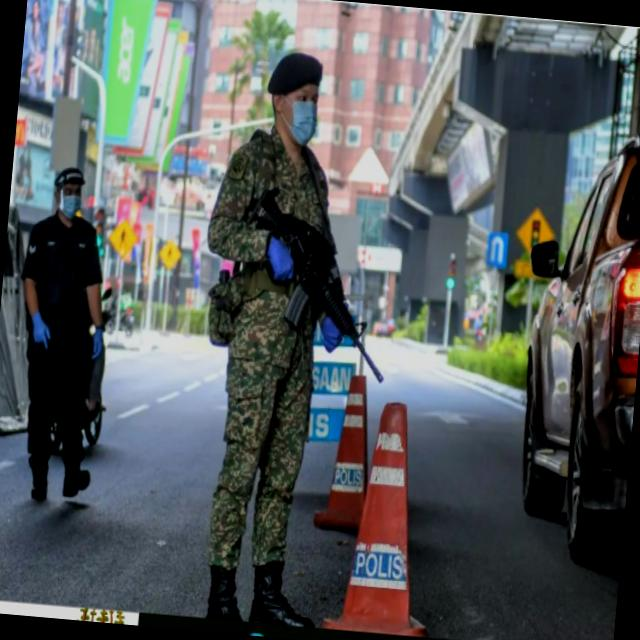m16: (195, 156, 454, 402)
